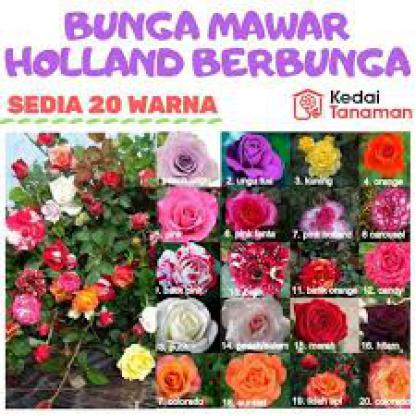Rose-Mawar: (5, 134, 413, 415)
